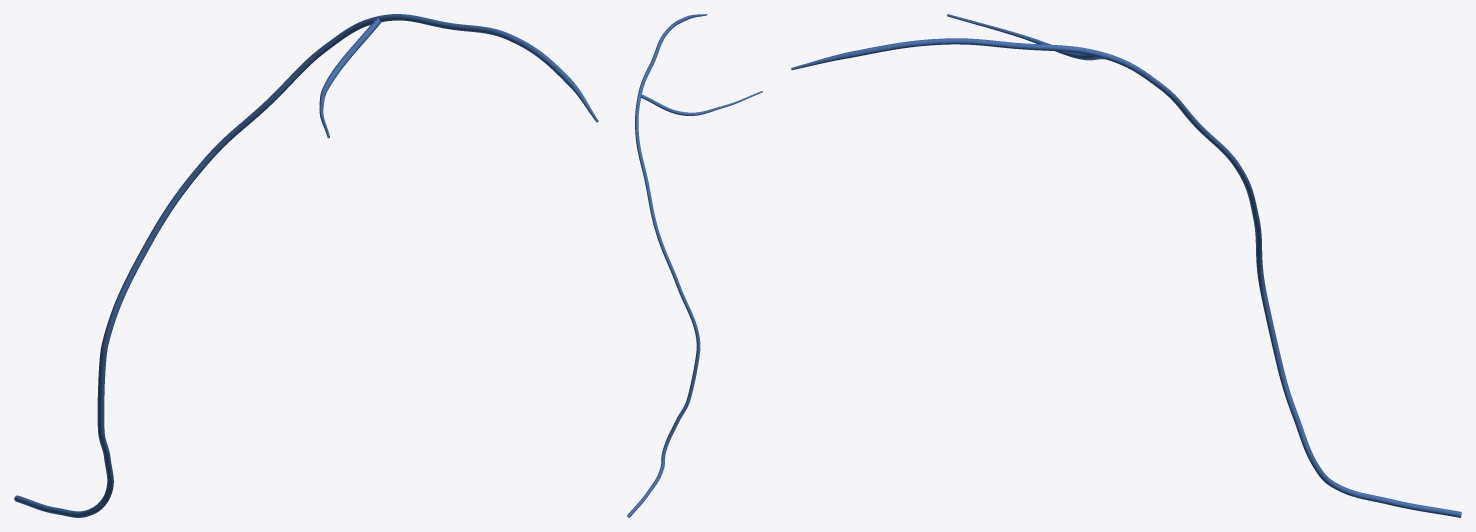
The picture shows the model from 3 angles, left to right: view 1: azimuth 30°, elevation 25°; view 2: azimuth 150°, elevation 25°; view 3: azimuth 270°, elevation 25°; orthographic projection. The views are drawn at different scales.
Parts seen in each view (by area): view 1: 右侧枕静脉; view 2: 右侧枕静脉; view 3: 右侧枕静脉.
Boxes of the visible parts, x1,y1,x2,y2 form: 右侧枕静脉: [14, 14, 598, 517]; 右侧枕静脉: [627, 14, 762, 517]; 右侧枕静脉: [791, 14, 1461, 517].
Size of the model in its own units: 0.0633 by 0.1513 by 0.1598.
